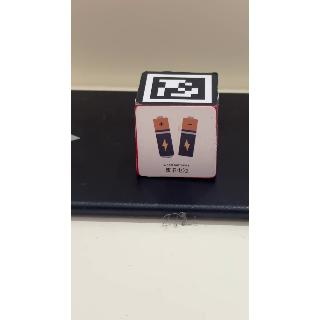Used_Battery: (136, 108, 220, 179)
